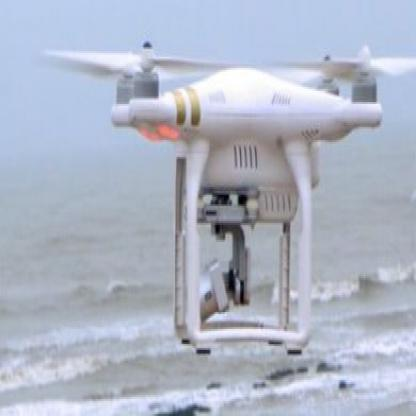drone: (43, 30, 416, 253)
